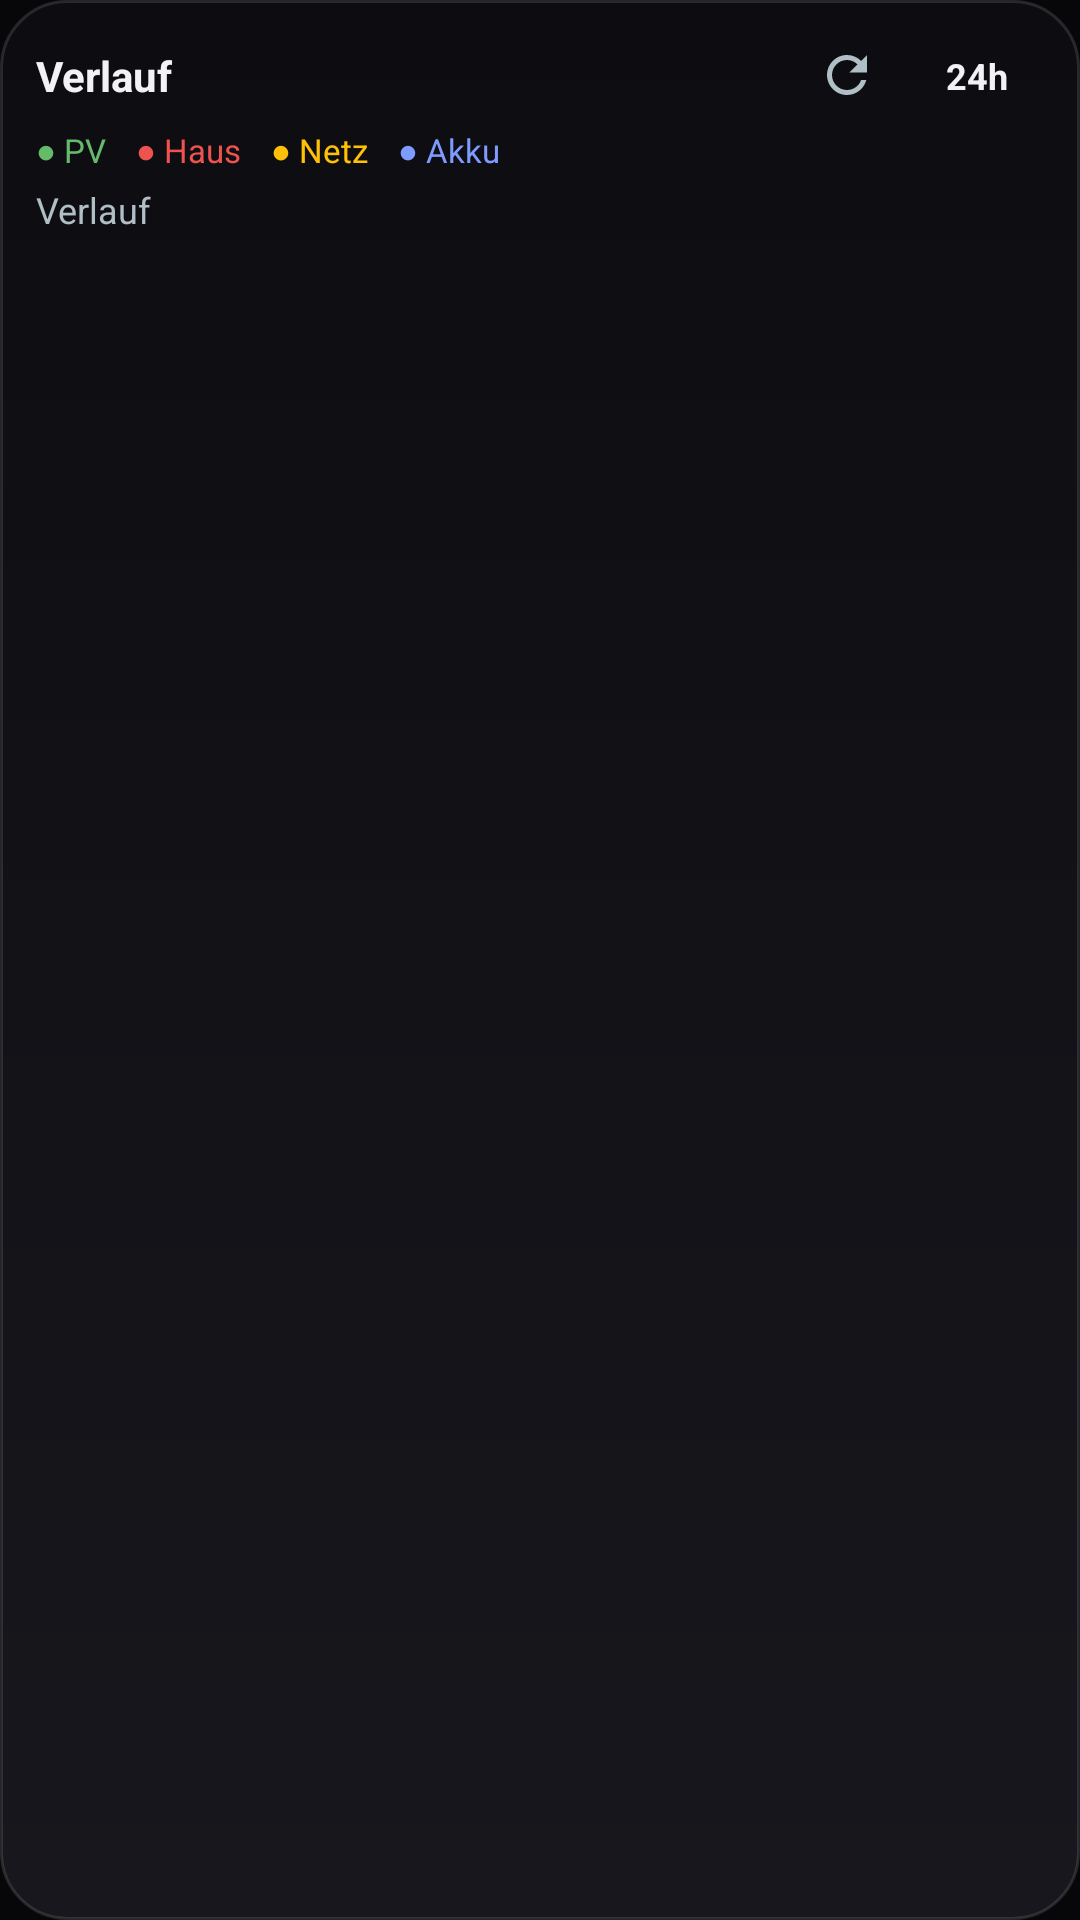

Icons on this 1080×1920 Android screen, each with its box as (x1, y1, x2, y2):
Aktualisieren: (827, 55, 867, 95)
